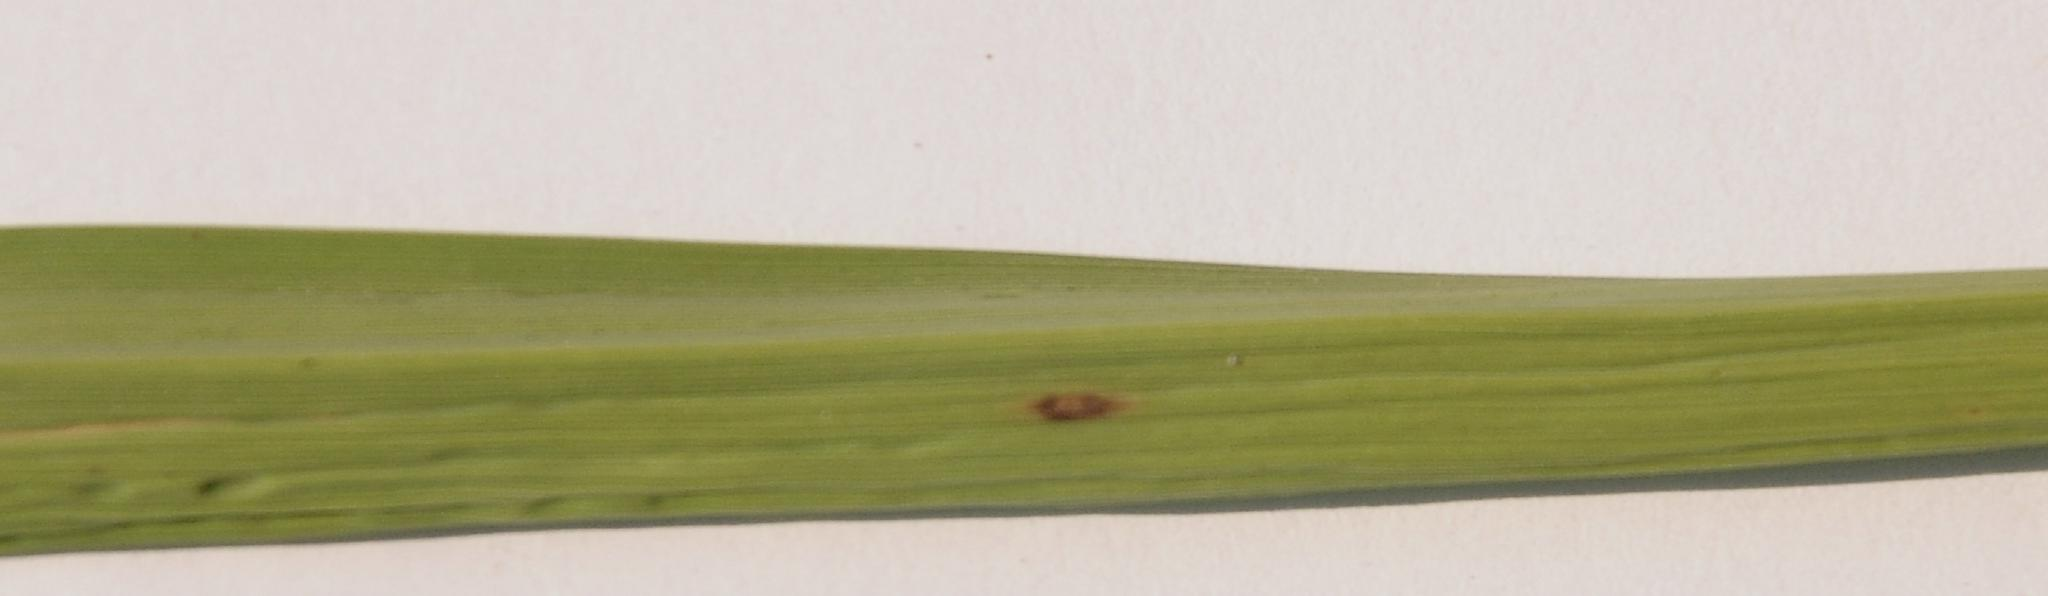0 BrownSpot: (1010, 359, 1172, 440)
